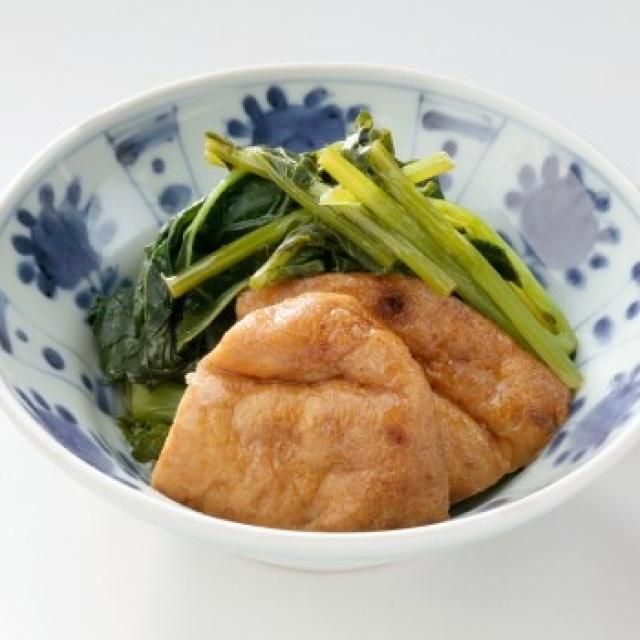熟制海鲜: (3, 71, 634, 562)
